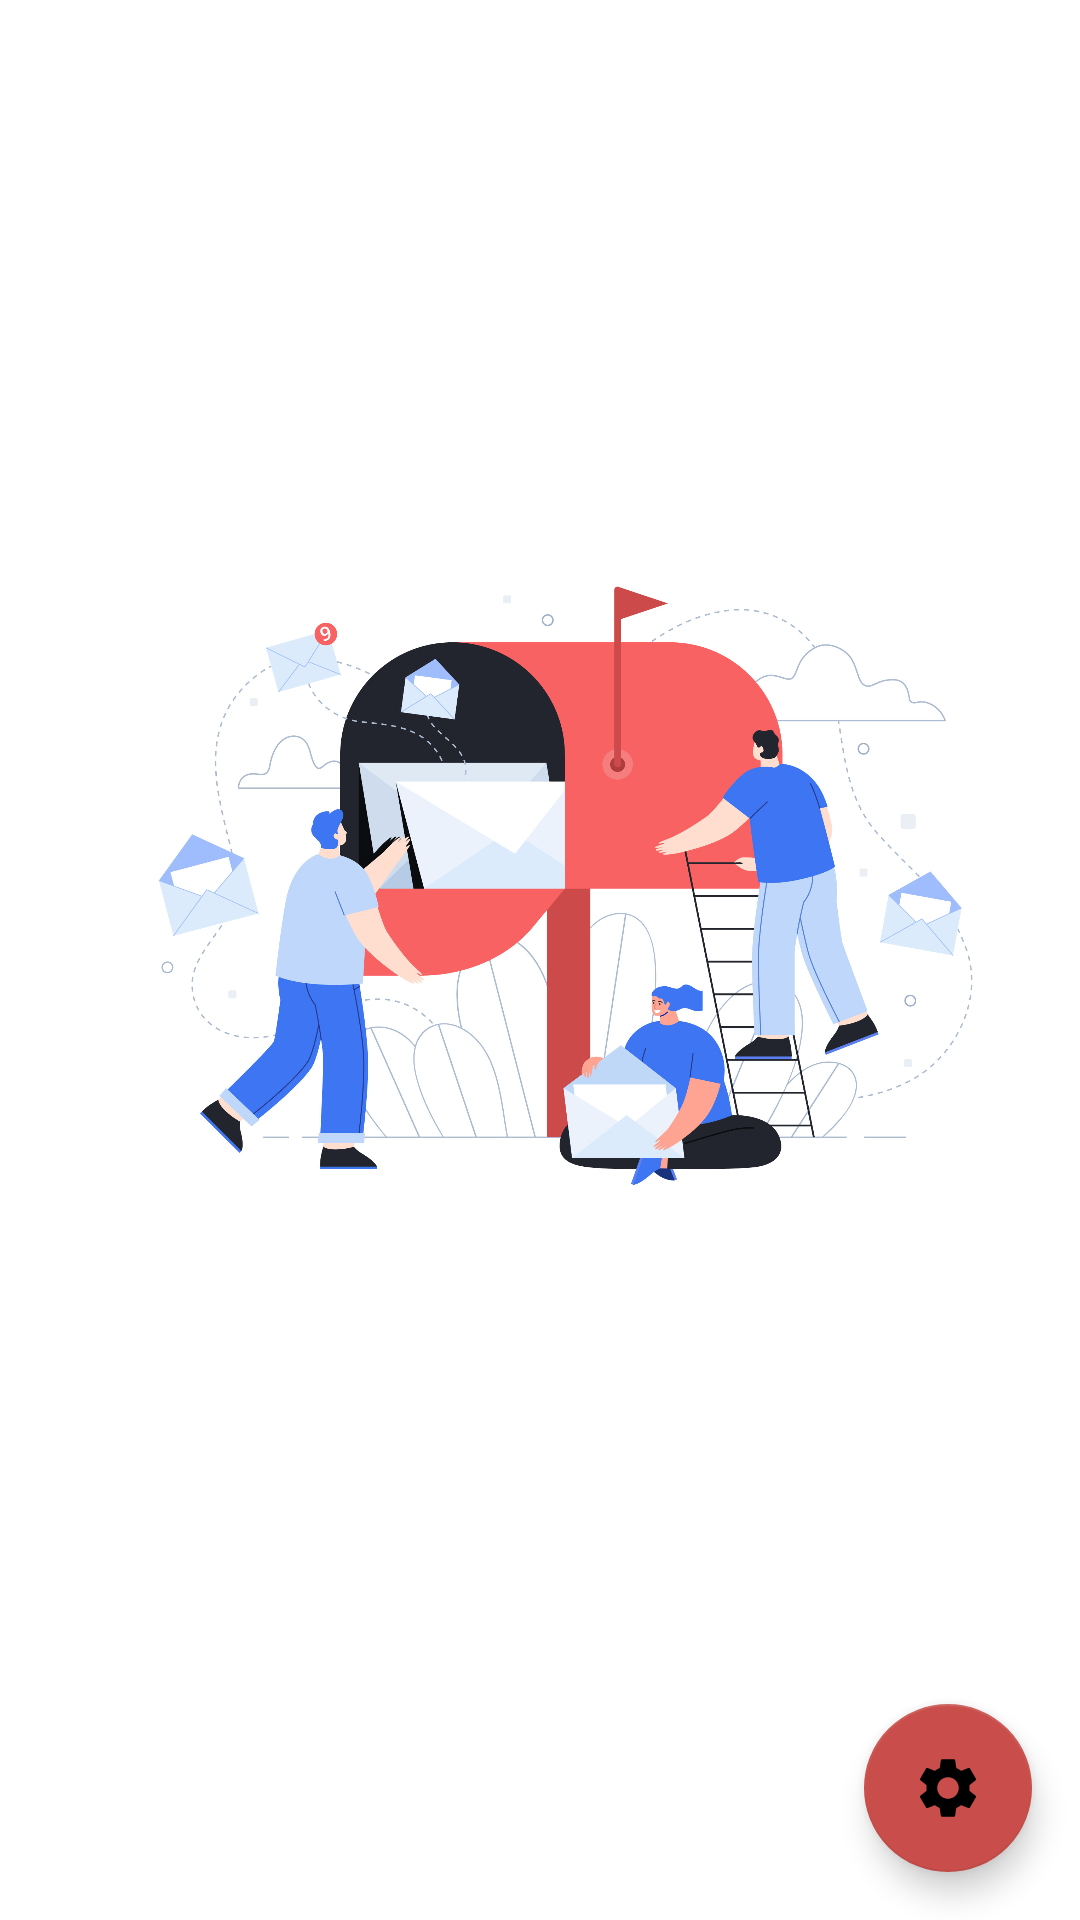

Icons on this 1080 × 1920 Android screen, each with the point to tap as (x,y):
settings: (948,1788)
